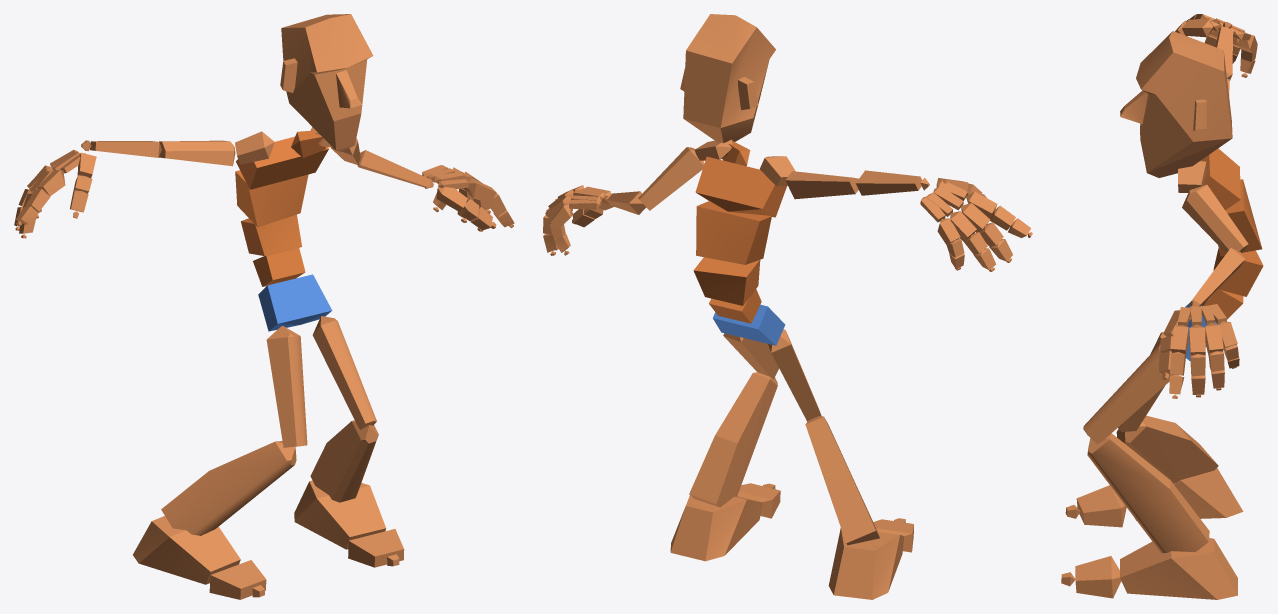
The model's file is personaje319.obj.
The picture shows the model from 3 angles, left to right: view 1: azimuth 30°, elevation 25°; view 2: azimuth 150°, elevation 25°; view 3: azimuth 270°, elevation 25°; orthographic projection. The views are drawn at different scales.
Visible parts, largest first — view 1: BOPED_Head, BOPED_R_leg, BOPED_R_foot, BOPED_R_foot01, BOPED_R_legup, BOPED_L_leg, BOPED_L_legup, Bone01, Bone04, Bone05, Bone03, BOPED_R_arm_upper (+7 smaller); view 2: BOPED_Head, BOPED_L_leg, BOPED_R_foot01, BOPED_R_foot, BOPED_R_leg, Bone04, Bone05, Bone03, BOPED_R_legup, BOPED_L_arm_upper, Bone01, BOPED_R_arm_upper (+6 smaller); view 3: BOPED_Head, BOPED_L_leg, BOPED_R_foot01, BOPED_R_leg, BOPED_L_legup, BOPED_L_arm_upper, BOPED_R_foot, Bone05, BOPED_R_foot_toe01, BOPED_R_foot_toe04, Bone03, Bone04 (+13 smaller).
Boxes of the visible parts, box(x1,y1,x2,y2) form: BOPED_Head: box(280, 14, 373, 151); BOPED_R_leg: box(161, 441, 296, 535); BOPED_R_foot: box(133, 516, 240, 584); BOPED_R_foot01: box(294, 480, 386, 549); BOPED_R_legup: box(266, 326, 307, 447); BOPED_L_leg: box(310, 420, 378, 502); BOPED_L_legup: box(312, 316, 376, 429); Bone01: box(258, 274, 332, 331); Bone04: box(235, 170, 308, 227); Bone05: box(236, 136, 328, 189); Bone03: box(241, 214, 301, 256); BOPED_R_arm_upper: box(158, 140, 235, 166); BOPED_Head: box(680, 14, 775, 143); BOPED_L_leg: box(689, 372, 777, 507); BOPED_R_foot01: box(670, 495, 762, 561); BOPED_R_foot: box(828, 528, 904, 599); BOPED_R_leg: box(805, 416, 879, 545); Bone04: box(696, 201, 771, 264); Bone05: box(695, 156, 786, 217); Bone03: box(693, 257, 760, 305); BOPED_R_legup: box(768, 329, 821, 421); BOPED_L_arm_upper: box(638, 147, 704, 210); Bone01: box(713, 304, 785, 345); BOPED_R_arm_upper: box(785, 171, 858, 199); BOPED_Head: box(1120, 31, 1232, 177); BOPED_L_leg: box(1087, 433, 1209, 553); BOPED_R_foot01: box(1120, 538, 1237, 599); BOPED_R_leg: box(1116, 415, 1218, 483); BOPED_L_legup: box(1083, 345, 1174, 444); BOPED_L_arm_upper: box(1182, 184, 1248, 253); BOPED_R_foot: box(1135, 468, 1243, 520); Bone05: box(1201, 148, 1240, 210); BOPED_R_foot_toe01: box(1076, 485, 1126, 527); BOPED_R_foot_toe04: box(1075, 556, 1121, 598); Bone03: box(1213, 248, 1263, 296); Bone04: box(1218, 179, 1262, 256).
Size of the model in its own units: 165 by 167 by 56.5.
